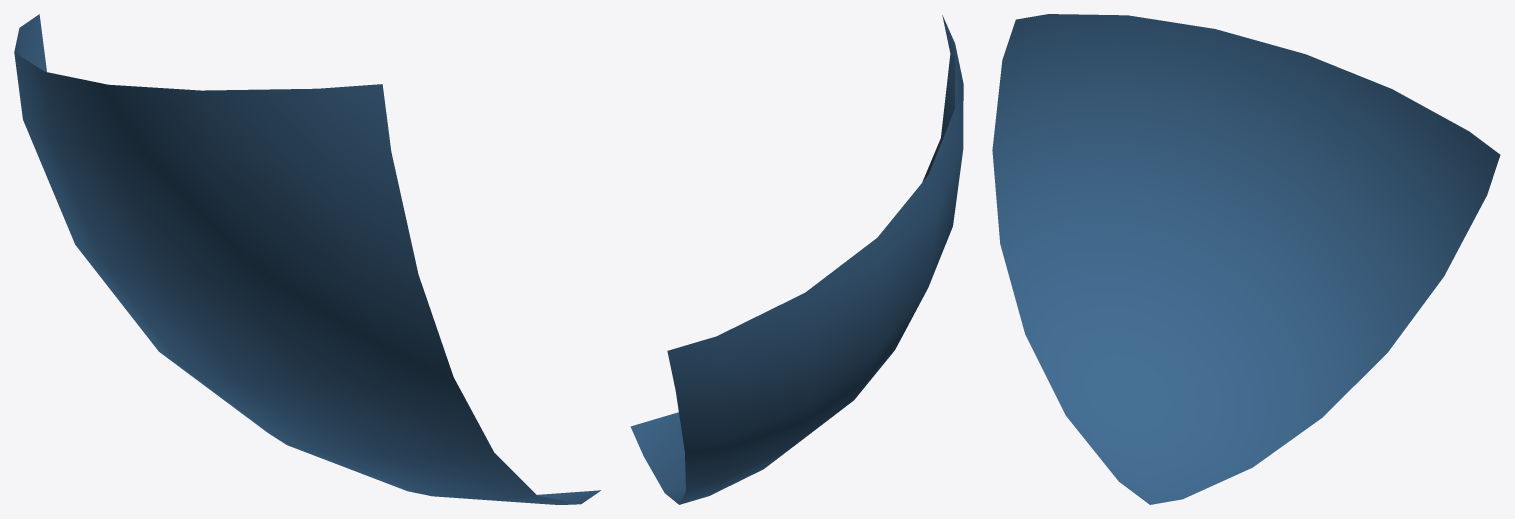
File: original-9.obj
3 renders of one model, left to right at view 1: azimuth 30°, elevation 25°; view 2: azimuth 150°, elevation 25°; view 3: azimuth 270°, elevation 25°, orthographic. The views are drawn at different scales.
Parts seen in each view (by area): view 1: globe_quarter7/globe_quarter12/mesh2/mesh2-geometry#mesh2-geomet; view 2: globe_quarter7/globe_quarter12/mesh2/mesh2-geometry#mesh2-geomet; view 3: globe_quarter7/globe_quarter12/mesh2/mesh2-geometry#mesh2-geomet.
Part boxes in pixels (x1,y1,x2,y2): globe_quarter7/globe_quarter12/mesh2/mesh2-geometry#mesh2-geomet: (14,14,600,504); globe_quarter7/globe_quarter12/mesh2/mesh2-geometry#mesh2-geomet: (630,15,963,504); globe_quarter7/globe_quarter12/mesh2/mesh2-geometry#mesh2-geomet: (992,14,1500,504).
Bounding box in the file's own units: 0.5848 × 0.7102 × 0.8434.
